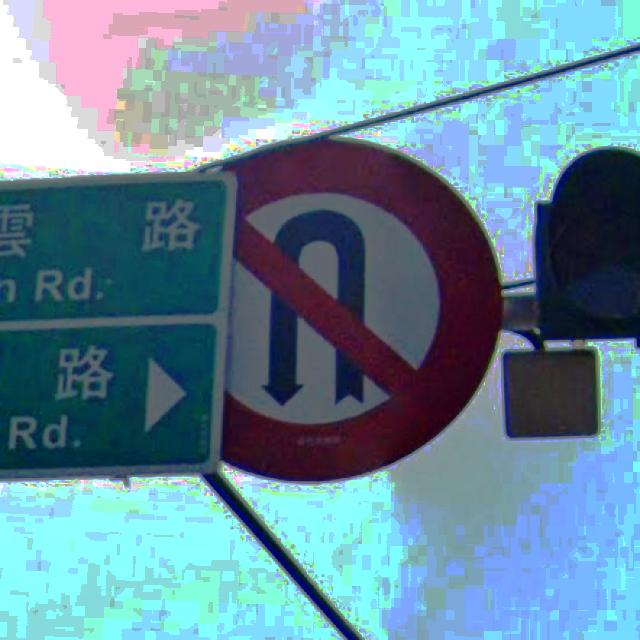nouturn: (200, 134, 505, 482)
